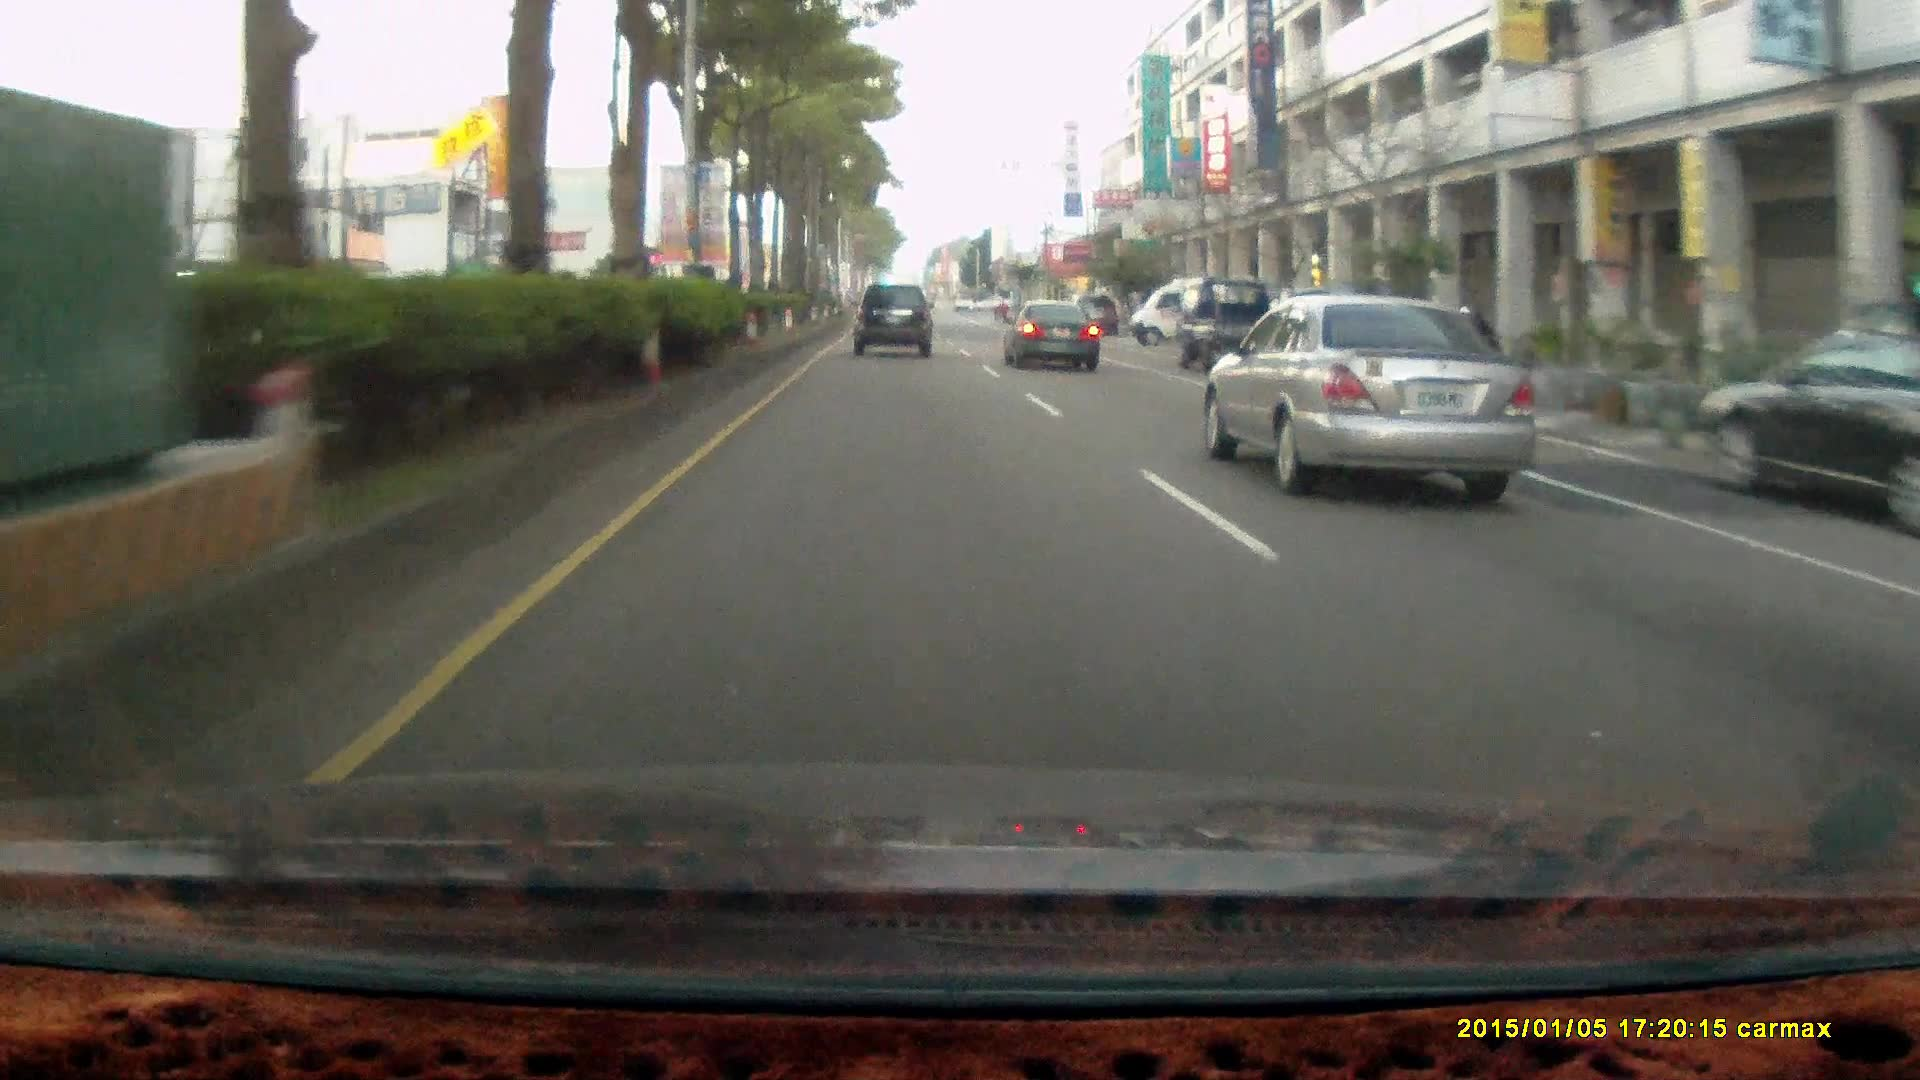vehicle: (1197, 287, 1531, 487), (1696, 334, 1920, 537), (1313, 305, 1480, 404), (1191, 276, 1305, 385), (1174, 276, 1284, 369), (1131, 277, 1263, 351), (1127, 277, 1259, 347), (1000, 298, 1104, 375), (1001, 294, 1098, 367), (852, 281, 936, 359), (851, 280, 934, 353)
